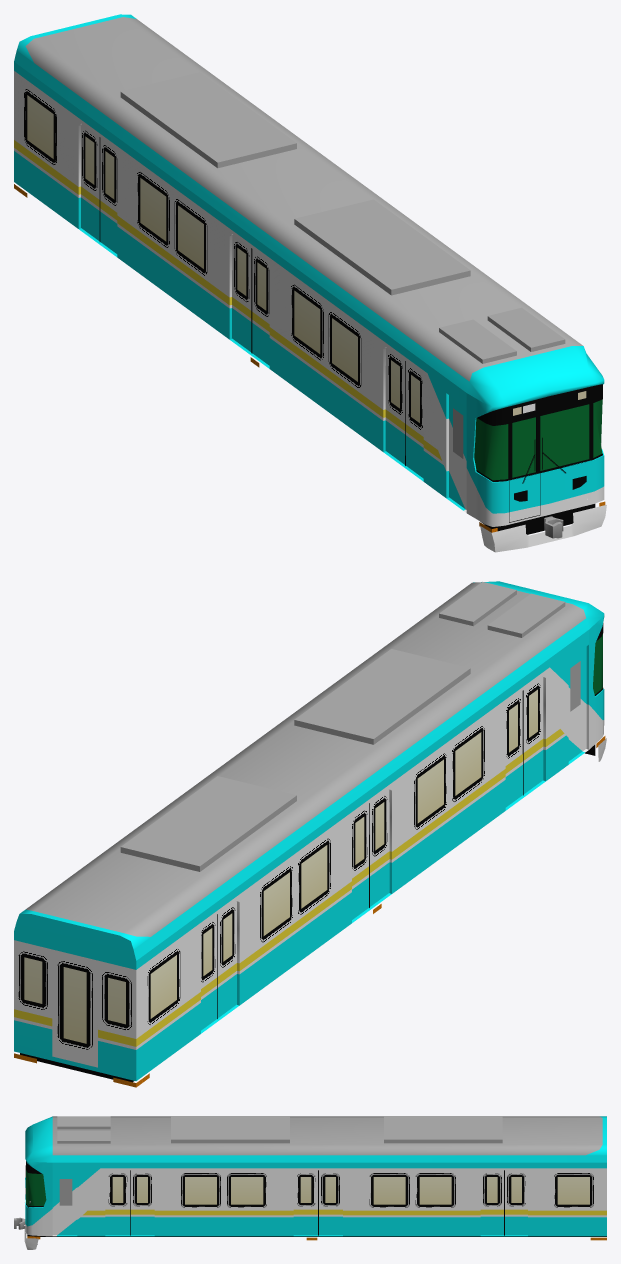
The model's file is KEIHAN800_1.glb.
3 renders of one model, top to bottom at view 1: azimuth 30°, elevation 25°; view 2: azimuth 150°, elevation 25°; view 3: azimuth 270°, elevation 25°, orthographic. The views are drawn at different scales.
Parts seen in each view (by area): view 1: body2; view 2: body2; view 3: body2.
Boxes of the visible parts, <box> form: body2: <box>14,14,606,552</box>; body2: <box>14,581,606,1087</box>; body2: <box>14,1116,606,1249</box>.
Bounding box in the file's own units: 5.39 × 7.27 × 36.63.
Materials: 11 (9 with a texture image).
